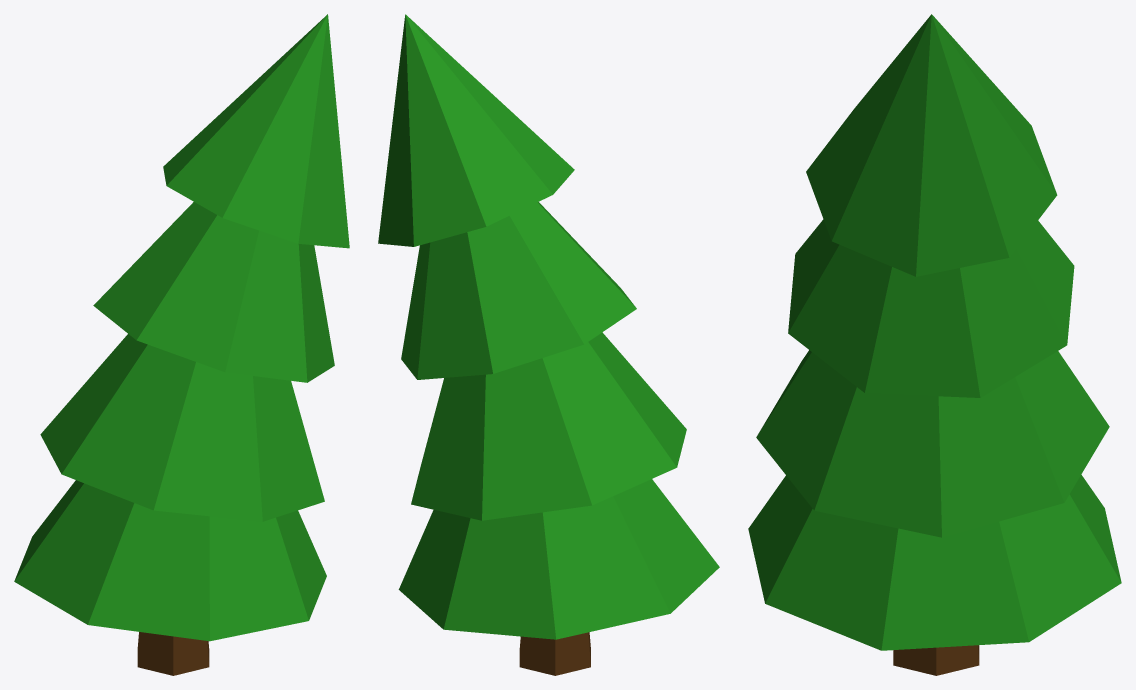
The model's file is Tree4.fbx.
3 renders of one model, left to right at view 1: azimuth 30°, elevation 25°; view 2: azimuth 150°, elevation 25°; view 3: azimuth 270°, elevation 25°, orthographic. The views are drawn at different scales.
Parts seen in each view (by area): view 1: Pine Tree Bent; view 2: Pine Tree Bent; view 3: Pine Tree Bent.
Boxes of the visible parts, bbox=[...] form: Pine Tree Bent: bbox=[14, 14, 349, 675]; Pine Tree Bent: bbox=[378, 14, 719, 675]; Pine Tree Bent: bbox=[748, 14, 1121, 675].
Size of the model in its own units: 215 by 241 by 464.
